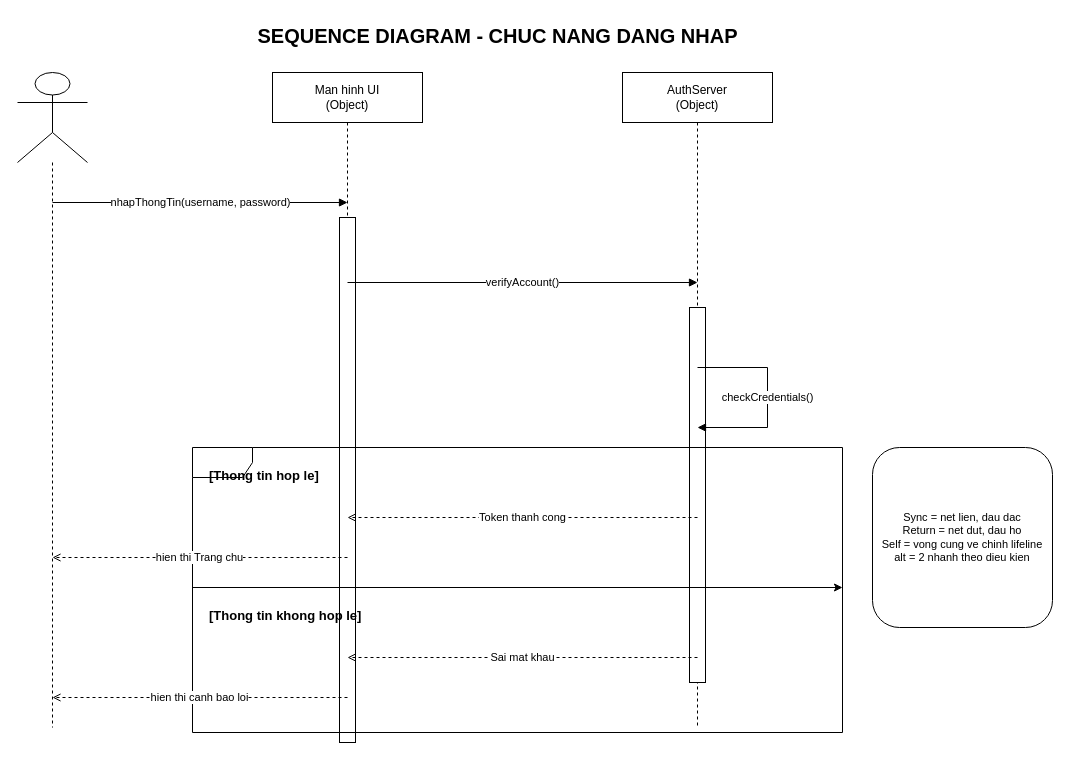
This 1070x760 diagram has some shape labels left out. The box of each missing label's shape, as (x1, y1, x2, y2) in pixels:
alt: (192, 446, 842, 732)
Khach hang (Actor): (16, 72, 88, 162)
